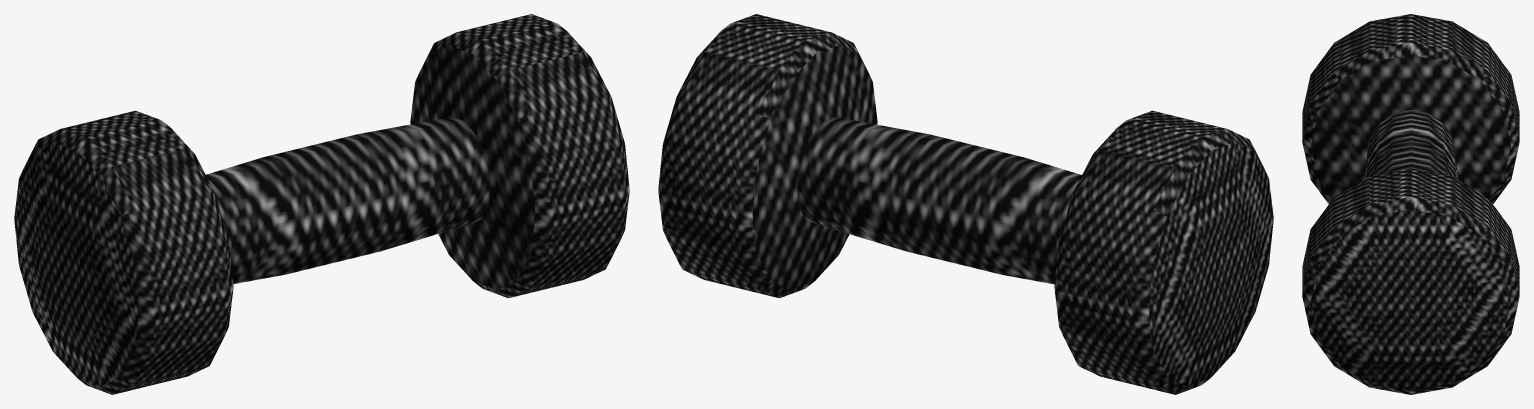
File: mancuerna2.obj
3 views of the same model, side by side, from view 1: azimuth 30°, elevation 25°; view 2: azimuth 150°, elevation 25°; view 3: azimuth 270°, elevation 25° (orthographic). The views are drawn at different scales.
Parts seen in each view (by area): view 1: mancuerna2:Cylinder001polySurface4, mancuerna2:Cylinder001; view 2: mancuerna2:Cylinder001polySurface4, mancuerna2:Cylinder001; view 3: mancuerna2:Cylinder001polySurface4, mancuerna2:Cylinder001.
Part boxes in pixels (box(x1,y1,x2,y2)): mancuerna2:Cylinder001polySurface4: box(14, 14, 629, 394); mancuerna2:Cylinder001: box(206, 116, 490, 283); mancuerna2:Cylinder001polySurface4: box(658, 14, 1273, 394); mancuerna2:Cylinder001: box(797, 117, 1081, 284); mancuerna2:Cylinder001polySurface4: box(1302, 14, 1519, 394); mancuerna2:Cylinder001: box(1364, 110, 1458, 178).
Bounding box in the file's own units: 1.36 × 0.6281 × 0.6281.
1 material, 1 textured.
